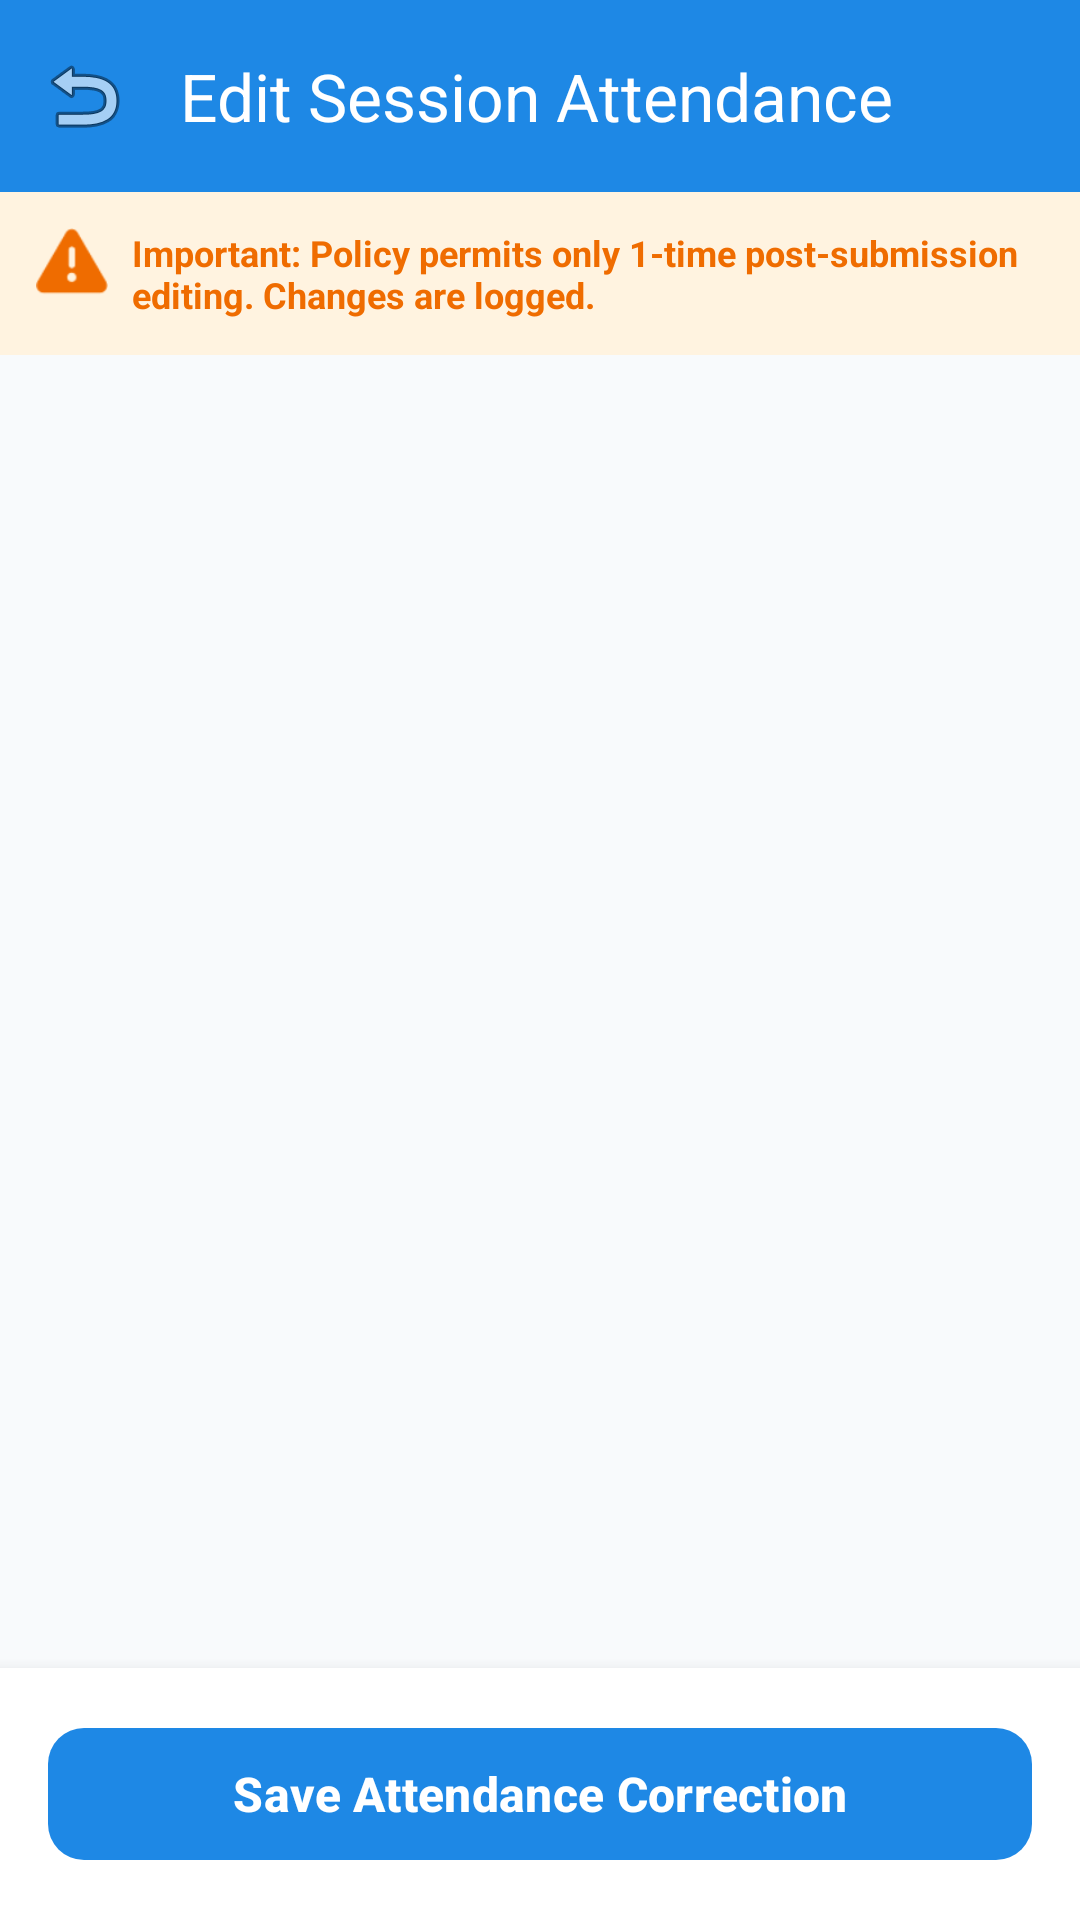

Screen size 1080px×1920px. Icon name, then its center in pixels as (x,y):
Warning: (72,261)
